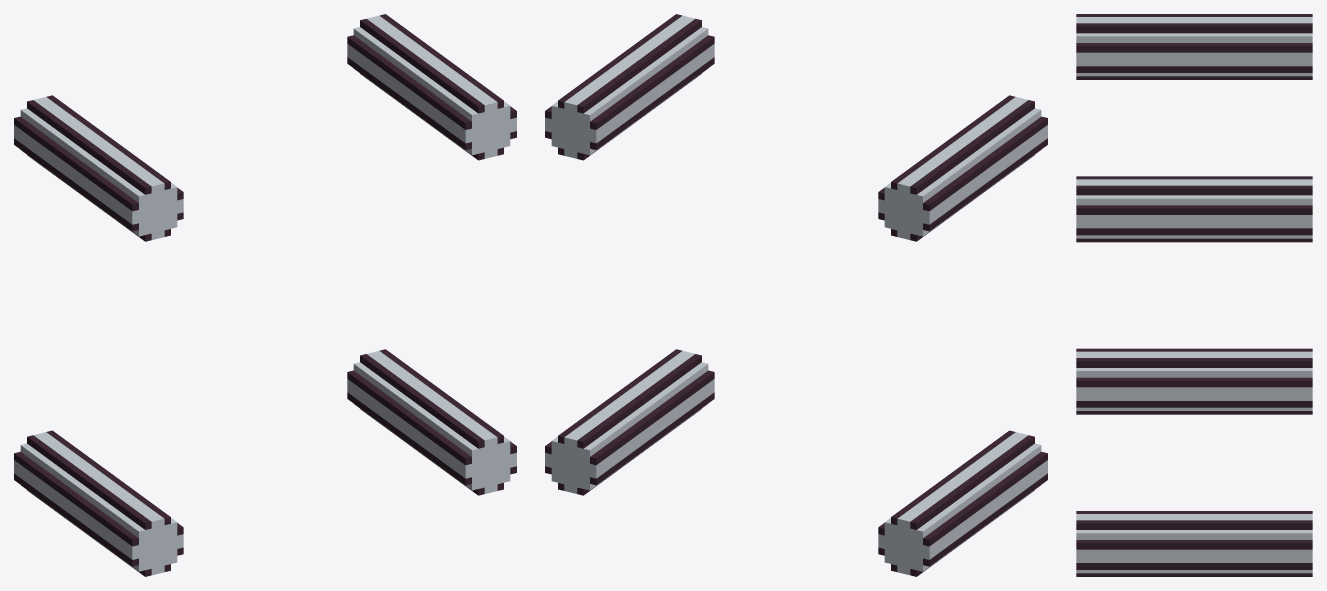
Rendered from Chair Legs.fbx.
The picture shows the model from 3 angles, left to right: view 1: azimuth 30°, elevation 25°; view 2: azimuth 150°, elevation 25°; view 3: azimuth 270°, elevation 25°; orthographic projection.
Visible parts, largest first — view 1: generated; view 2: generated; view 3: generated.
Part boxes in pixels (x1,y1,x2,y2): generated: (14,14,516,576); generated: (545,14,1047,576); generated: (1076,14,1312,576).
Size of the model in its own units: 2400 by 2320 by 1280.
